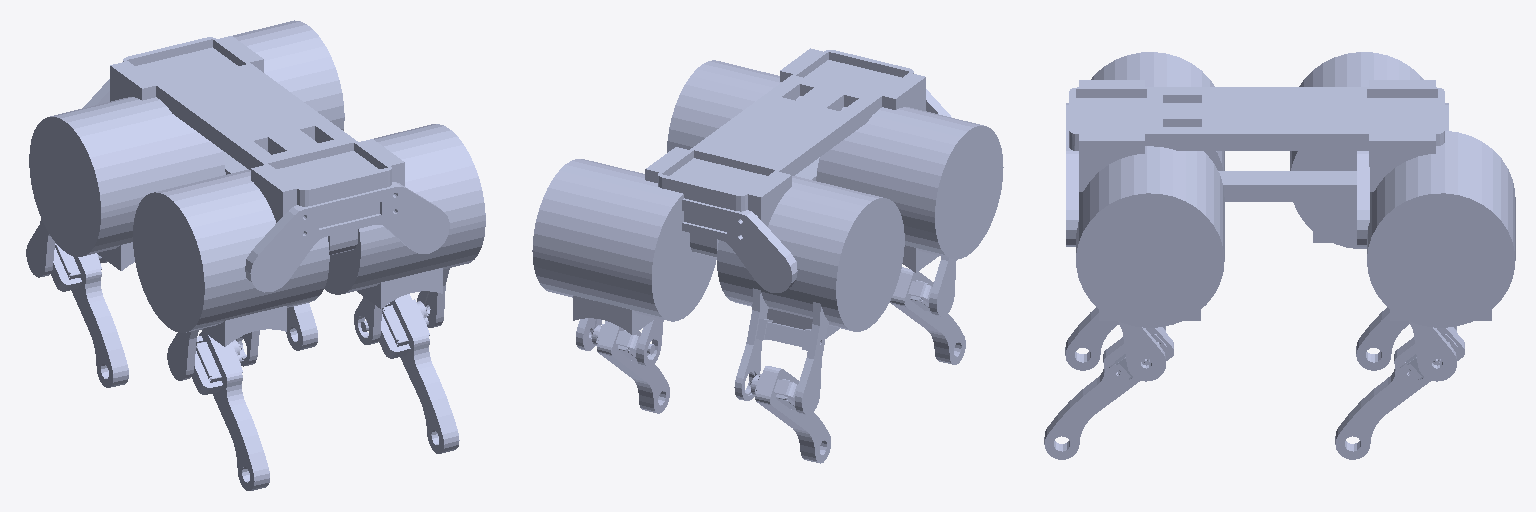
robot.urdf — my_robot:
<robot
  name="my_robot">
  <link
    name="base">
    <inertial>
      <origin
        xyz="0.000204907436500964 -0.0023073240712552 0.0256355181704067"
        rpy="0 0 0" />
      <mass
        value="0.349087763378245" />
      <inertia
        ixx="0"
        ixy="0"
        ixz="0"
        iyy="0"
        iyz="0"
        izz="0" />
    </inertial>
    <visual>
      <origin
        xyz="0 0 0"
        rpy="0 0 0" />
      <geometry>
        <mesh
          filename="package://my_robot/meshes/base.STL" />
      </geometry>
      <material
        name="">
        <color
          rgba="0.792156862745098 0.819607843137255 0.933333333333333 1" />
      </material>
    </visual>
    <collision>
      <origin
        xyz="0 0 0"
        rpy="0 0 0" />
      <geometry>
        <mesh
          filename="package://my_robot/meshes/base.STL" />
      </geometry>
    </collision>
  </link>
  <link
    name="LF_HIP">
    <inertial>
      <origin
        xyz="-0.00594729168458417 -0.00485654837417016 -0.0202742503665817"
        rpy="0 0 0" />
      <mass
        value="0.0202222434753155" />
      <inertia
        ixx="8.20626267007156E-07"
        ixy="-1.59123300304472E-07"
        ixz="-1.48803220510119E-08"
        iyy="5.25729912696779E-07"
        iyz="-5.66988572550977E-08"
        izz="8.15355060430567E-07" />
    </inertial>
    <visual>
      <origin
        xyz="0 0 0"
        rpy="0 0 0" />
      <geometry>
        <mesh
          filename="package://my_robot/meshes/LF_HIP.STL" />
      </geometry>
      <material
        name="">
        <color
          rgba="0.792156862745098 0.819607843137255 0.933333333333333 1" />
      </material>
    </visual>
    <collision>
      <origin
        xyz="0 0 0"
        rpy="0 0 0" />
      <geometry>
        <mesh
          filename="package://my_robot/meshes/LF_HIP.STL" />
      </geometry>
    </collision>
  </link>
  <joint
    name="LF_HAA"
    type="revolute">
    <origin
      xyz="0.050205 -0.060264 0.0044408"
      rpy="1.5708 0 3.1416" />
    <parent
      link="base" />
    <child
      link="LF_HIP" />
    <axis
      xyz="0 0 -1" />
    <limit
      lower="-0.35"
      upper="0.35"
      effort="0"
      velocity="0" />
  </joint>
  <link
    name="LF_SHANK">
    <inertial>
      <origin
        xyz="-0.01216951489415 -0.030019682431949 -0.0224095204785165"
        rpy="0 0 0" />
      <mass
        value="0.0125650044620547" />
      <inertia
        ixx="0"
        ixy="0"
        ixz="0"
        iyy="0"
        iyz="0"
        izz="0" />
    </inertial>
    <visual>
      <origin
        xyz="0 0 0"
        rpy="0 0 0" />
      <geometry>
        <mesh
          filename="package://my_robot/meshes/LF_SHANK.STL" />
      </geometry>
      <material
        name="">
        <color
          rgba="0.792156862745098 0.819607843137255 0.933333333333333 1" />
      </material>
    </visual>
    <collision>
      <origin
        xyz="0 0 0"
        rpy="0 0 0" />
      <geometry>
        <mesh
          filename="package://my_robot/meshes/LF_SHANK.STL" />
      </geometry>
    </collision>
  </link>
  <joint
    name="LF_HFE"
    type="revolute">
    <origin
      xyz="0.015495 -0.011839 -0.0263"
      rpy="0.016319 1.5708 0" />
    <parent
      link="LF_HIP" />
    <child
      link="LF_SHANK" />
    <axis
      xyz="0 0 -1" />
    <limit
      lower="-0.524"
      upper="0.524"
      effort="0"
      velocity="0" />
  </joint>
  <link
    name="LF_KNEE">
    <inertial>
      <origin
        xyz="-0.0028475899665497 -0.0215718533675847 -0.0213998801293673"
        rpy="0 0 0" />
      <mass
        value="0.020940214536888" />
      <inertia
        ixx="2.84887560923765E-06"
        ixy="-4.57449680652954E-07"
        ixz="6.47675375288013E-08"
        iyy="2.88411284184737E-07"
        iyz="3.87108439912418E-07"
        izz="2.72321747739394E-06" />
    </inertial>
    <visual>
      <origin
        xyz="0 0 0"
        rpy="0 0 0" />
      <geometry>
        <mesh
          filename="package://my_robot/meshes/LF_KNEE.STL" />
      </geometry>
      <material
        name="">
        <color
          rgba="0.792156862745098 0.819607843137255 0.933333333333333 1" />
      </material>
    </visual>
    <collision>
      <origin
        xyz="0 0 0"
        rpy="0 0 0" />
      <geometry>
        <mesh
          filename="package://my_robot/meshes/LF_KNEE.STL" />
      </geometry>
    </collision>
  </link>
  <joint
    name="LF_KFE"
    type="revolute">
    <origin
      xyz="-0.024219 -0.060319 0"
      rpy="-1.7731E-18 5.103E-18 0.8858" />
    <parent
      link="LF_SHANK" />
    <child
      link="LF_KNEE" />
    <axis
      xyz="0 0 -1" />
    <limit
      lower="-0.524"
      upper="0.524"
      effort="0"
      velocity="0" />
  </joint>
  <link
    name="LH_HIP">
    <inertial>
      <origin
        xyz="-0.00594728603487756 -0.00485654703619716 -0.0202742474323915"
        rpy="0 0 0" />
      <mass
        value="0.0202222345780056" />
      <inertia
        ixx="8.20626247865029E-07"
        ixy="-1.59123036427776E-07"
        ixz="-1.48799410996211E-08"
        iyy="5.25728784115556E-07"
        iyz="-5.66984902989942E-08"
        izz="8.1535416831994E-07" />
    </inertial>
    <visual>
      <origin
        xyz="0 0 0"
        rpy="0 0 0" />
      <geometry>
        <mesh
          filename="package://my_robot/meshes/LH_HIP.STL" />
      </geometry>
      <material
        name="">
        <color
          rgba="0.792156862745098 0.819607843137255 0.933333333333333 1" />
      </material>
    </visual>
    <collision>
      <origin
        xyz="0 0 0"
        rpy="0 0 0" />
      <geometry>
        <mesh
          filename="package://my_robot/meshes/LH_HIP.STL" />
      </geometry>
    </collision>
  </link>
  <joint
    name="LH_HAA"
    type="revolute">
    <origin
      xyz="0.050205 0.096286 0.0044408"
      rpy="1.5708 0 3.1416" />
    <parent
      link="base" />
    <child
      link="LH_HIP" />
    <axis
      xyz="0 0 -1" />
    <limit
      lower="-0.35"
      upper="0.35"
      effort="0"
      velocity="0" />
  </joint>
  <link
    name="LH_SHANK">
    <inertial>
      <origin
        xyz="-0.01216951489415 -0.030019682431949 -0.0224095204785166"
        rpy="0 0 0" />
      <mass
        value="0.0125650044620547" />
      <inertia
        ixx="0"
        ixy="0"
        ixz="0"
        iyy="0"
        iyz="0"
        izz="0" />
    </inertial>
    <visual>
      <origin
        xyz="0 0 0"
        rpy="0 0 0" />
      <geometry>
        <mesh
          filename="package://my_robot/meshes/LH_SHANK.STL" />
      </geometry>
      <material
        name="">
        <color
          rgba="0.792156862745098 0.819607843137255 0.933333333333333 1" />
      </material>
    </visual>
    <collision>
      <origin
        xyz="0 0 0"
        rpy="0 0 0" />
      <geometry>
        <mesh
          filename="package://my_robot/meshes/LH_SHANK.STL" />
      </geometry>
    </collision>
  </link>
  <joint
    name="LH_HFE"
    type="revolute">
    <origin
      xyz="0.015495 -0.011839 -0.0263"
      rpy="0.016319 1.5708 0" />
    <parent
      link="LH_HIP" />
    <child
      link="LH_SHANK" />
    <axis
      xyz="0 0 -1" />
    <limit
      lower="-0.524"
      upper="0.524"
      effort="0"
      velocity="0" />
  </joint>
  <link
    name="LH_KNEE">
    <inertial>
      <origin
        xyz="-0.00284758887121367 -0.0215718639059826 -0.0213998748760903"
        rpy="0 0 0" />
      <mass
        value="0.0209402035630598" />
      <inertia
        ixx="2.84887018830337E-06"
        ixy="-4.57449976542861E-07"
        ixz="6.47677293463717E-08"
        iyy="2.88410414052883E-07"
        iyz="3.87106256854168E-07"
        izz="2.72321336151687E-06" />
    </inertial>
    <visual>
      <origin
        xyz="0 0 0"
        rpy="0 0 0" />
      <geometry>
        <mesh
          filename="package://my_robot/meshes/LH_KNEE.STL" />
      </geometry>
      <material
        name="">
        <color
          rgba="0.792156862745098 0.819607843137255 0.933333333333333 1" />
      </material>
    </visual>
    <collision>
      <origin
        xyz="0 0 0"
        rpy="0 0 0" />
      <geometry>
        <mesh
          filename="package://my_robot/meshes/LH_KNEE.STL" />
      </geometry>
    </collision>
  </link>
  <joint
    name="LH_KFE"
    type="revolute">
    <origin
      xyz="-0.024219 -0.060319 0"
      rpy="4.6201E-19 1.8952E-18 0.8858" />
    <parent
      link="LH_SHANK" />
    <child
      link="LH_KNEE" />
    <axis
      xyz="0 0 -1" />
    <limit
      lower="-0.524"
      upper="0.524"
      effort="0"
      velocity="0" />
  </joint>
  <link
    name="RH_HIP">
    <inertial>
      <origin
        xyz="-0.00610260953118668 -0.00465988369827438 -0.0202742545501112"
        rpy="0 0 0" />
      <mass
        value="0.0202222328718557" />
      <inertia
        ixx="8.09931421912782E-07"
        ixy="-1.6840225690398E-07"
        ixz="-1.67219458209233E-08"
        iyy="5.36422285737063E-07"
        iyz="-5.61828884566937E-08"
        izz="8.15354851652084E-07" />
    </inertial>
    <visual>
      <origin
        xyz="0 0 0"
        rpy="0 0 0" />
      <geometry>
        <mesh
          filename="package://my_robot/meshes/RH_HIP.STL" />
      </geometry>
      <material
        name="">
        <color
          rgba="0.792156862745098 0.819607843137255 0.933333333333333 1" />
      </material>
    </visual>
    <collision>
      <origin
        xyz="0 0 0"
        rpy="0 0 0" />
      <geometry>
        <mesh
          filename="package://my_robot/meshes/RH_HIP.STL" />
      </geometry>
    </collision>
  </link>
  <joint
    name="RH_HAA"
    type="revolute">
    <origin
      xyz="-0.049795 0.054686 0.0044408"
      rpy="1.5708 0 0" />
    <parent
      link="base" />
    <child
      link="RH_HIP" />
    <axis
      xyz="0 0 1" />
    <limit
      lower="-0.35"
      upper="0.35"
      effort="0"
      velocity="0" />
  </joint>
  <link
    name="RH_SHANK">
    <inertial>
      <origin
        xyz="0.0122497084855831 -0.0302194066240428 -0.0224095204785166"
        rpy="0 0 0" />
      <mass
        value="0.0125650044620547" />
      <inertia
        ixx="0"
        ixy="0"
        ixz="0"
        iyy="0"
        iyz="0"
        izz="0" />
    </inertial>
    <visual>
      <origin
        xyz="0 0 0"
        rpy="0 0 0" />
      <geometry>
        <mesh
          filename="package://my_robot/meshes/RH_SHANK.STL" />
      </geometry>
      <material
        name="">
        <color
          rgba="0.792156862745098 0.819607843137255 0.933333333333333 1" />
      </material>
    </visual>
    <collision>
      <origin
        xyz="0 0 0"
        rpy="0 0 0" />
      <geometry>
        <mesh
          filename="package://my_robot/meshes/RH_SHANK.STL" />
      </geometry>
    </collision>
  </link>
  <joint
    name="RH_HFE"
    type="revolute">
    <origin
      xyz="0.015101 -0.012338 -0.0263"
      rpy="0.016319 1.5708 0" />
    <parent
      link="RH_HIP" />
    <child
      link="RH_SHANK" />
    <axis
      xyz="0 0 1" />
    <limit
      lower="-0.524"
      upper="0.524"
      effort="0"
      velocity="0" />
  </joint>
  <link
    name="RH_KNEE">
    <inertial>
      <origin
        xyz="0.00309817982357408 -0.0214406865900601 -0.0203001198707538"
        rpy="0 0 0" />
      <mass
        value="0.0209402145365318" />
      <inertia
        ixx="2.84887560917356E-06"
        ixy="4.57449680635344E-07"
        ixz="6.47675375139834E-08"
        iyy="2.88411284172098E-07"
        iyz="-3.87108439881677E-07"
        izz="2.72321747733031E-06" />
    </inertial>
    <visual>
      <origin
        xyz="0 0 0"
        rpy="0 0 0" />
      <geometry>
        <mesh
          filename="package://my_robot/meshes/RH_KNEE.STL" />
      </geometry>
      <material
        name="">
        <color
          rgba="0.792156862745098 0.819607843137255 0.933333333333333 1" />
      </material>
    </visual>
    <collision>
      <origin
        xyz="0 0 0"
        rpy="0 0 0" />
      <geometry>
        <mesh
          filename="package://my_robot/meshes/RH_KNEE.STL" />
      </geometry>
    </collision>
  </link>
  <joint
    name="RH_KFE"
    type="revolute">
    <origin
      xyz="0.024219 -0.060319 0"
      rpy="1.8962E-18 5.305E-18 -0.8858" />
    <parent
      link="RH_SHANK" />
    <child
      link="RH_KNEE" />
    <axis
      xyz="0 0 1" />
    <limit
      lower="-0.524"
      upper="0.524"
      effort="0"
      velocity="0" />
  </joint>
  <link
    name="RF_HIP">
    <inertial>
      <origin
        xyz="-0.00610260071852686 -0.00465988250374973 0.0213257541110594"
        rpy="0 0 0" />
      <mass
        value="0.0202222351258522" />
      <inertia
        ixx="8.09932423716377E-07"
        ixy="-1.6840233441624E-07"
        ixz="-1.67221801893552E-08"
        iyy="5.36422567176781E-07"
        iyz="-5.61826015528394E-08"
        izz="8.15354003148527E-07" />
    </inertial>
    <visual>
      <origin
        xyz="0 0 0"
        rpy="0 0 0" />
      <geometry>
        <mesh
          filename="package://my_robot/meshes/RF_HIP.STL" />
      </geometry>
      <material
        name="">
        <color
          rgba="0.792156862745098 0.819607843137255 0.933333333333333 1" />
      </material>
    </visual>
    <collision>
      <origin
        xyz="0 0 0"
        rpy="0 0 0" />
      <geometry>
        <mesh
          filename="package://my_robot/meshes/RF_HIP.STL" />
      </geometry>
    </collision>
  </link>
  <joint
    name="RF_HAA"
    type="revolute">
    <origin
      xyz="-0.049795 -0.060264 0.0044408"
      rpy="1.5708 0 0" />
    <parent
      link="base" />
    <child
      link="RF_HIP" />
    <axis
      xyz="0 0 1" />
    <limit
      lower="-0.35"
      upper="0.35"
      effort="0"
      velocity="0" />
  </joint>
  <link
    name="RF_SHANK">
    <inertial>
      <origin
        xyz="0.0122497084855832 -0.0302194066240429 -0.0224095204785166"
        rpy="0 0 0" />
      <mass
        value="0.0125650044620547" />
      <inertia
        ixx="0"
        ixy="0"
        ixz="0"
        iyy="0"
        iyz="0"
        izz="0" />
    </inertial>
    <visual>
      <origin
        xyz="0 0 0"
        rpy="0 0 0" />
      <geometry>
        <mesh
          filename="package://my_robot/meshes/RF_SHANK.STL" />
      </geometry>
      <material
        name="">
        <color
          rgba="0.792156862745098 0.819607843137255 0.933333333333333 1" />
      </material>
    </visual>
    <collision>
      <origin
        xyz="0 0 0"
        rpy="0 0 0" />
      <geometry>
        <mesh
          filename="package://my_robot/meshes/RF_SHANK.STL" />
      </geometry>
    </collision>
  </link>
  <joint
    name="RF_HFE"
    type="revolute">
    <origin
      xyz="0.015101 -0.012338 0.0153"
      rpy="0.016319 1.5708 0" />
    <parent
      link="RF_HIP" />
    <child
      link="RF_SHANK" />
    <axis
      xyz="0 0 1" />
    <limit
      lower="-0.524"
      upper="0.524"
      effort="0"
      velocity="0" />
  </joint>
  <link
    name="RF_KNEE">
    <inertial>
      <origin
        xyz="0.00309817882992422 -0.0214406945203041 -0.0203001242470559"
        rpy="0 0 0" />
      <mass
        value="0.0209402067425756" />
      <inertia
        ixx="2.84887124497832E-06"
        ixy="4.57449944216634E-07"
        ixz="6.47677002811506E-08"
        iyy="2.88410504831284E-07"
        iyz="-3.87106536609186E-07"
        izz="2.72321425283967E-06" />
    </inertial>
    <visual>
      <origin
        xyz="0 0 0"
        rpy="0 0 0" />
      <geometry>
        <mesh
          filename="package://my_robot/meshes/RF_KNEE.STL" />
      </geometry>
      <material
        name="">
        <color
          rgba="0.792156862745098 0.819607843137255 0.933333333333333 1" />
      </material>
    </visual>
    <collision>
      <origin
        xyz="0 0 0"
        rpy="0 0 0" />
      <geometry>
        <mesh
          filename="package://my_robot/meshes/RF_KNEE.STL" />
      </geometry>
    </collision>
  </link>
  <joint
    name="RF_KFE"
    type="revolute">
    <origin
      xyz="0.024219 -0.060319 0"
      rpy="1.3671E-18 1.5629E-18 -0.8858" />
    <parent
      link="RF_SHANK" />
    <child
      link="RF_KNEE" />
    <axis
      xyz="0 0 1" />
    <limit
      lower="-0.524"
      upper="0.524"
      effort="0"
      velocity="0" />
  </joint>
</robot>

--- Render facts (derived) ---
3 views of the same robot in one strip: view 1: azimuth 30°, elevation 25°; view 2: azimuth 150°, elevation 25°; view 3: azimuth 270°, elevation 25° (orthographic).
Robot: my_robot — 13 links, 12 joints (12 revolute); root link base; default pose: every joint at zero.
Visible links, largest first — view 1: base, RF_HIP, RH_HIP, LF_HIP, LH_HIP, LF_KNEE, RF_KNEE, RH_KNEE, LF_SHANK, RF_SHANK, LH_KNEE, RH_SHANK; view 2: base, LH_HIP, RF_HIP, RH_HIP, LF_HIP, RH_SHANK, RH_KNEE, RF_KNEE, LH_KNEE, LH_SHANK, RF_SHANK; view 3: base, LH_HIP, LF_HIP, RH_HIP, LH_KNEE, LF_KNEE, RF_HIP, LH_SHANK, LF_SHANK, RF_KNEE, RH_KNEE.
Link boxes in pixels (x1=…): base: x1=83, y1=36, x2=449, y2=292; RF_HIP: x1=133, y1=169, x2=329, y2=346; RH_HIP: x1=29, y1=97, x2=225, y2=270; LF_HIP: x1=325, y1=124, x2=485, y2=308; LH_HIP: x1=233, y1=20, x2=344, y2=130; LF_KNEE: x1=361, y1=294, x2=459, y2=453; RF_KNEE: x1=174, y1=331, x2=269, y2=490; RH_KNEE: x1=33, y1=243, x2=128, y2=387; LF_SHANK: x1=354, y1=268, x2=449, y2=344; RF_SHANK: x1=167, y1=328, x2=259, y2=380; LH_KNEE: x1=286, y1=303, x2=317, y2=350; RH_SHANK: x1=26, y1=219, x2=107, y2=277; base: x1=645, y1=48, x2=951, y2=292; LH_HIP: x1=532, y1=159, x2=716, y2=334; RF_HIP: x1=816, y1=107, x2=1003, y2=272; RH_HIP: x1=717, y1=176, x2=904, y2=338; LF_HIP: x1=667, y1=60, x2=801, y2=152; RH_SHANK: x1=734, y1=288, x2=828, y2=414; RH_KNEE: x1=749, y1=366, x2=830, y2=463; RF_KNEE: x1=890, y1=267, x2=965, y2=364; LH_KNEE: x1=591, y1=321, x2=669, y2=413; LH_SHANK: x1=576, y1=318, x2=663, y2=366; RF_SHANK: x1=929, y1=256, x2=956, y2=316; base: x1=1066, y1=80, x2=1448, y2=246; LH_HIP: x1=1367, y1=131, x2=1515, y2=327; LF_HIP: x1=1076, y1=146, x2=1224, y2=327; RH_HIP: x1=1290, y1=52, x2=1423, y2=248; LH_KNEE: x1=1335, y1=327, x2=1464, y2=459; LF_KNEE: x1=1044, y1=327, x2=1173, y2=459; RF_HIP: x1=1091, y1=52, x2=1224, y2=170; LH_SHANK: x1=1409, y1=321, x2=1456, y2=381; LF_SHANK: x1=1118, y1=321, x2=1165, y2=381; RF_KNEE: x1=1065, y1=307, x2=1118, y2=370; RH_KNEE: x1=1356, y1=307, x2=1409, y2=370.
Bounding box of the posed robot: 0.18 × 0.2535 × 0.1785 m (x, y, z).
Meshes: 13 distinct files referenced, 13 mesh visuals loaded (13 binary STL).